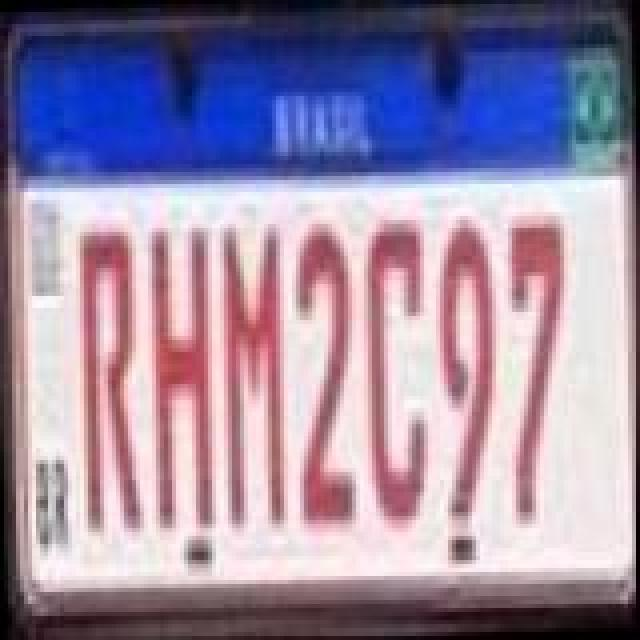2: (290, 224, 358, 532)
7: (500, 208, 572, 528)
9: (430, 214, 498, 522)
C: (360, 212, 432, 532)
H: (148, 224, 220, 532)
M: (220, 222, 292, 530)
R: (78, 230, 146, 538)
